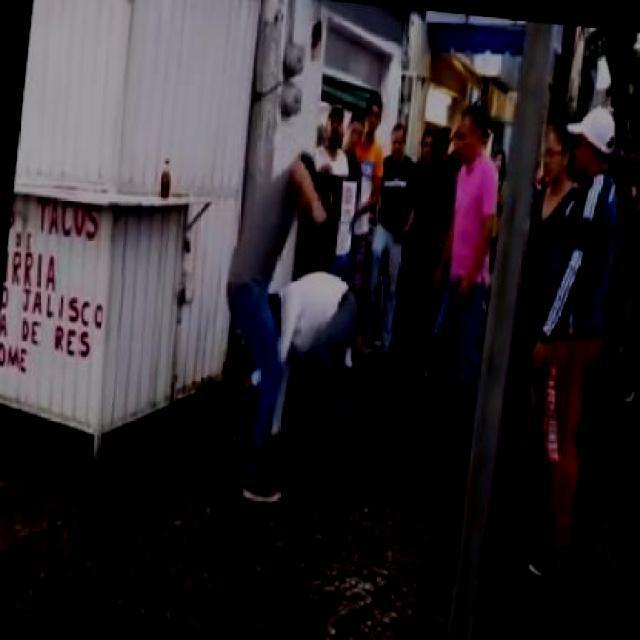fight: (202, 146, 384, 532)
non-fight: (514, 104, 624, 588), (414, 104, 508, 463)
